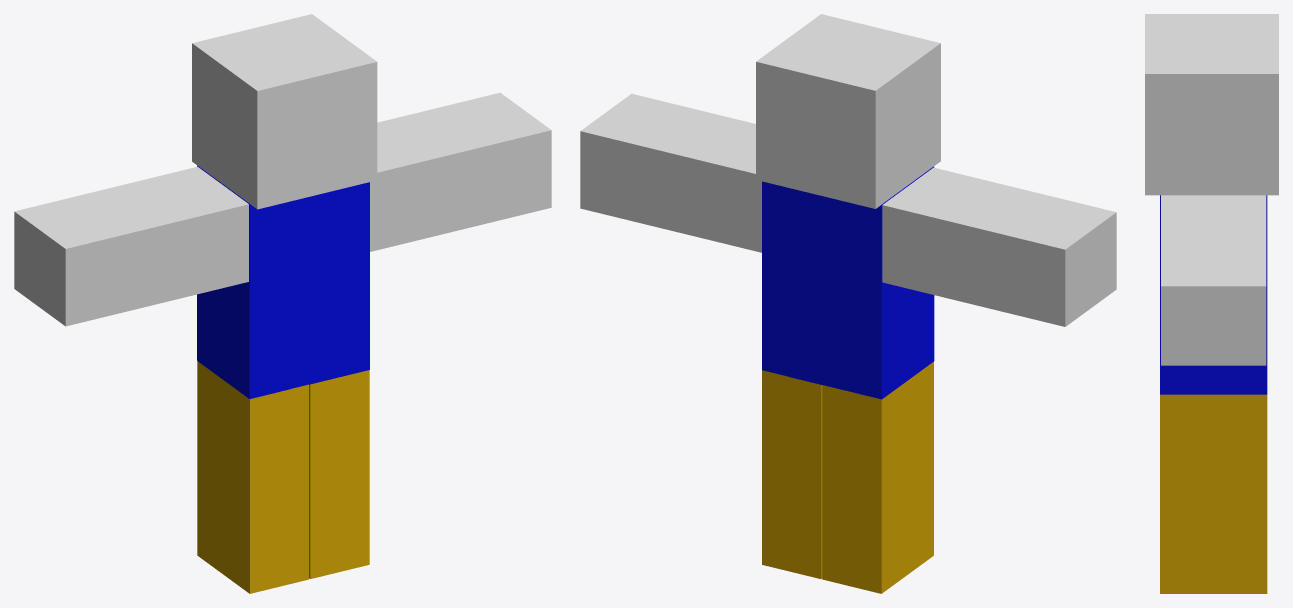
The model's file is hero.glb.
3 views of the same model, side by side, from view 1: azimuth 30°, elevation 25°; view 2: azimuth 150°, elevation 25°; view 3: azimuth 270°, elevation 25° (orthographic). The views are drawn at different scales.
Parts seen in each view (by area): view 1: Cube.003, Cube, Cube.001, Cube.005, Cube.002, Cube.004; view 2: Cube.003, Cube, Cube.001, Cube.005, Cube.002, Cube.004; view 3: Cube.003, Cube.004, Cube.002, Cube.
Part boxes in pixels (bbox=[...]): Cube.003: bbox=[192, 14, 377, 209]; Cube: bbox=[197, 165, 369, 398]; Cube.001: bbox=[14, 166, 248, 326]; Cube.005: bbox=[197, 361, 308, 593]; Cube.002: bbox=[370, 92, 551, 251]; Cube.004: bbox=[309, 370, 369, 578]; Cube.003: bbox=[756, 14, 940, 208]; Cube: bbox=[762, 166, 934, 399]; Cube.001: bbox=[882, 167, 1116, 326]; Cube.005: bbox=[822, 361, 933, 593]; Cube.002: bbox=[580, 93, 761, 252]; Cube.004: bbox=[762, 370, 822, 578]; Cube.003: bbox=[1145, 14, 1278, 195]; Cube.004: bbox=[1160, 394, 1267, 593]; Cube.002: bbox=[1161, 195, 1266, 365]; Cube: bbox=[1160, 195, 1267, 394].
Size of the model in its own units: 7.36 by 7.35 by 1.71.
